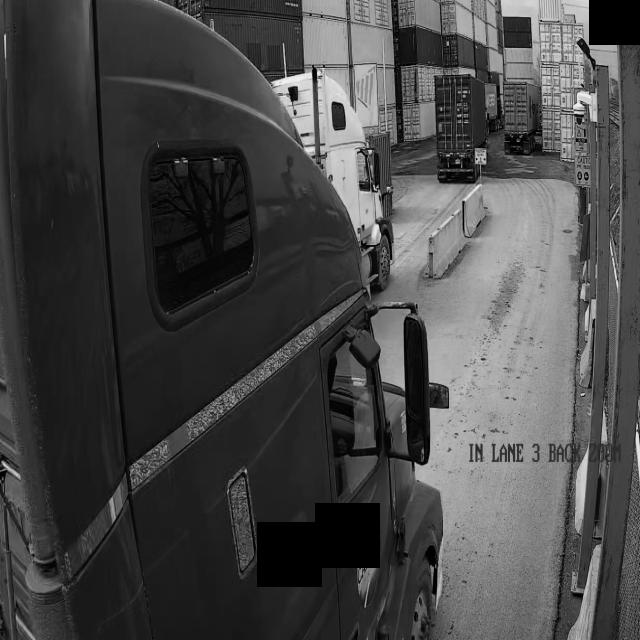container_side_no: (0, 0, 448, 640)
truck_cabin: (0, 0, 450, 640), (271, 67, 394, 289)
truck_company: (357, 507, 379, 606)
truck_with_container: (435, 75, 487, 182)
